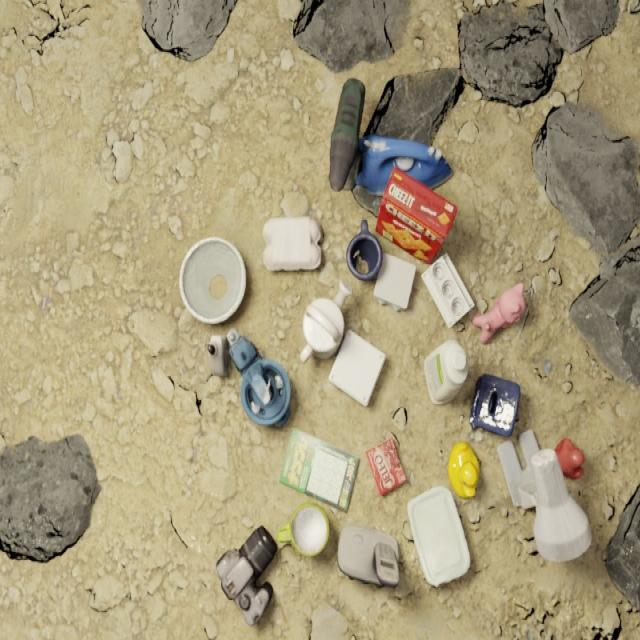Other Objects: (497, 431, 591, 561), (407, 485, 470, 587), (280, 429, 358, 511), (227, 331, 290, 427), (216, 525, 277, 624), (179, 237, 246, 324), (329, 329, 385, 405), (421, 253, 474, 327), (337, 525, 399, 585), (472, 281, 525, 344), (470, 373, 519, 436), (262, 216, 321, 268), (423, 340, 467, 404), (301, 297, 344, 360), (365, 435, 406, 495), (373, 253, 415, 308), (346, 220, 383, 280), (290, 504, 329, 556), (447, 441, 479, 497), (555, 439, 584, 479), (207, 335, 228, 376), (333, 281, 351, 307)
